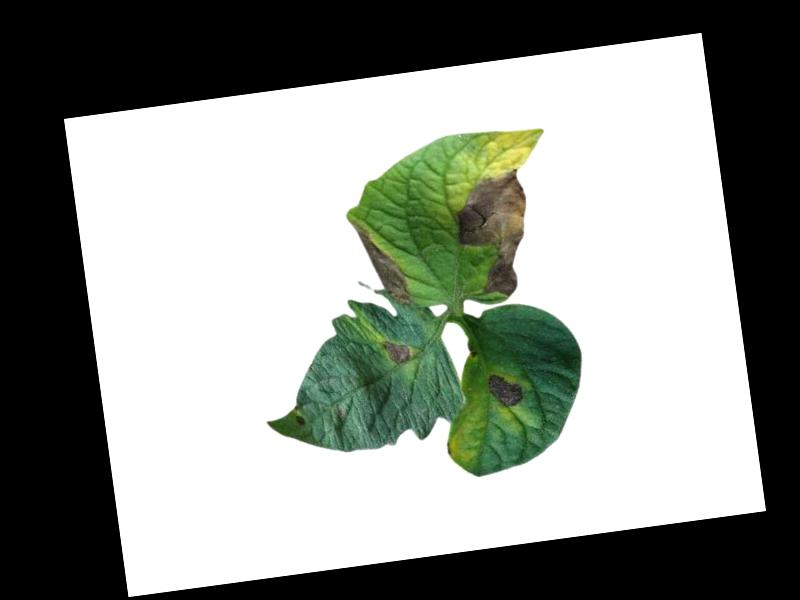Early_blight: (448, 167, 538, 304), (344, 217, 412, 312), (484, 368, 525, 411), (379, 336, 413, 367), (292, 413, 305, 428)
